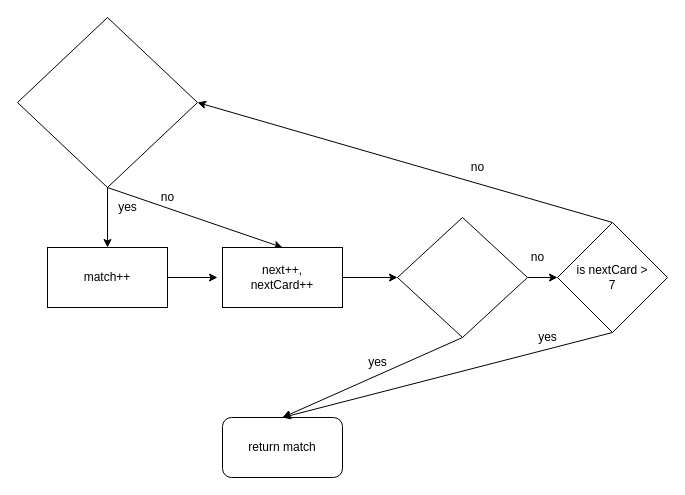
The diagram is 685 pixels wide and 495 high, and some of its shapes have lost their labels. Each missing label, with the centre of its shape:
is card == nextCard-next: the point at 107,102
is match++ >= 4: the point at 462,277
